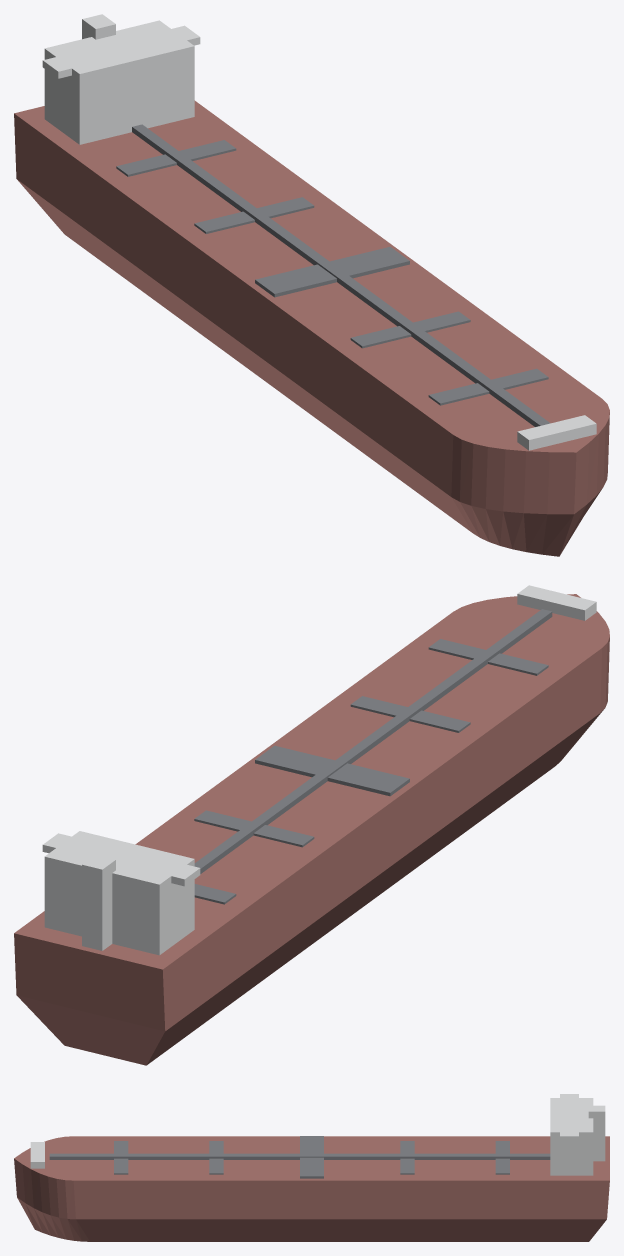
File: ship_tanker.glb
The picture shows the model from 3 angles, top to bottom: view 1: azimuth 30°, elevation 25°; view 2: azimuth 150°, elevation 25°; view 3: azimuth 270°, elevation 25°; orthographic projection. The views are drawn at different scales.
Parts seen in each view (by area): view 1: ship_tanker; view 2: ship_tanker; view 3: ship_tanker.
Part boxes in pixels (<box>): ship_tanker: <box>14,14,609,556</box>; ship_tanker: <box>14,585,609,1065</box>; ship_tanker: <box>14,1094,609,1241</box>.
Bounding box in the file's own units: 44 × 56 × 250.
